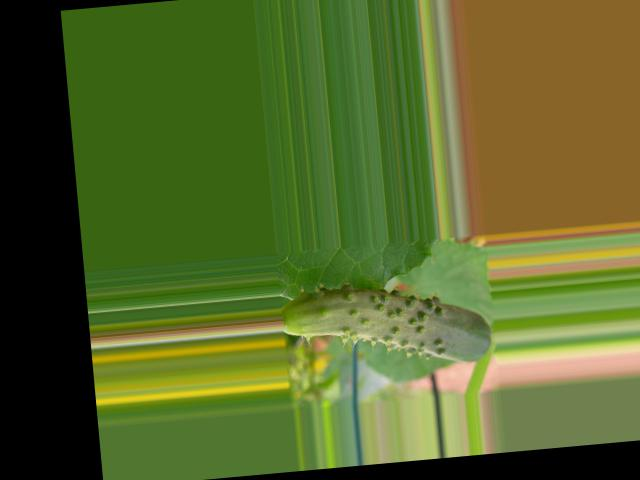cucumber: (280, 271, 494, 377)
